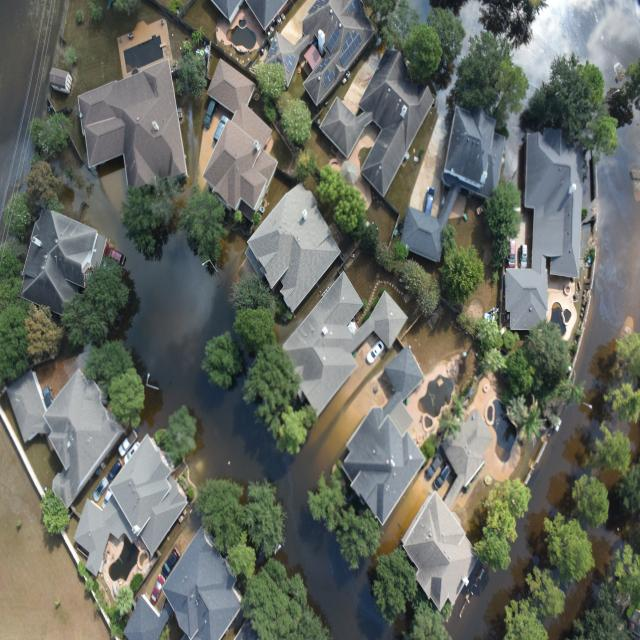fire: (109, 226, 392, 638), (450, 117, 640, 639), (0, 0, 63, 217), (521, 0, 640, 84)
